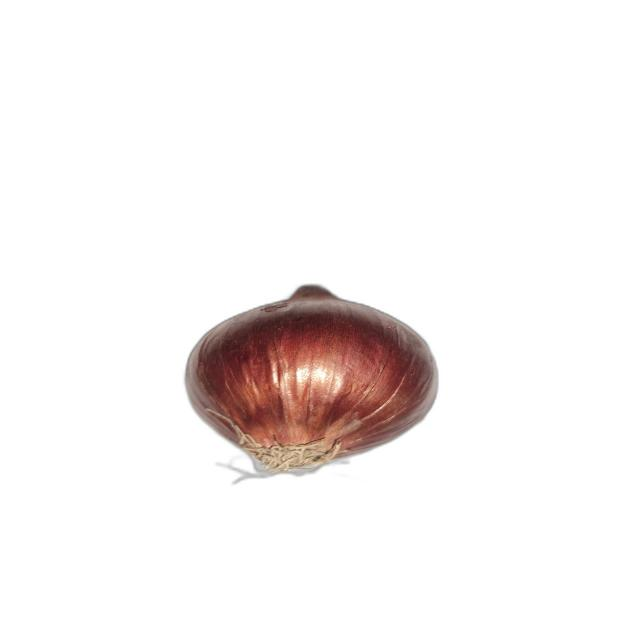onion: (184, 284, 439, 474)
